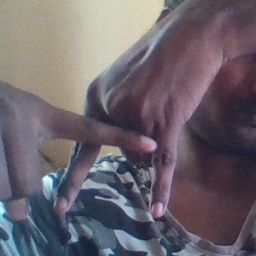H: (42, 86, 183, 218)
